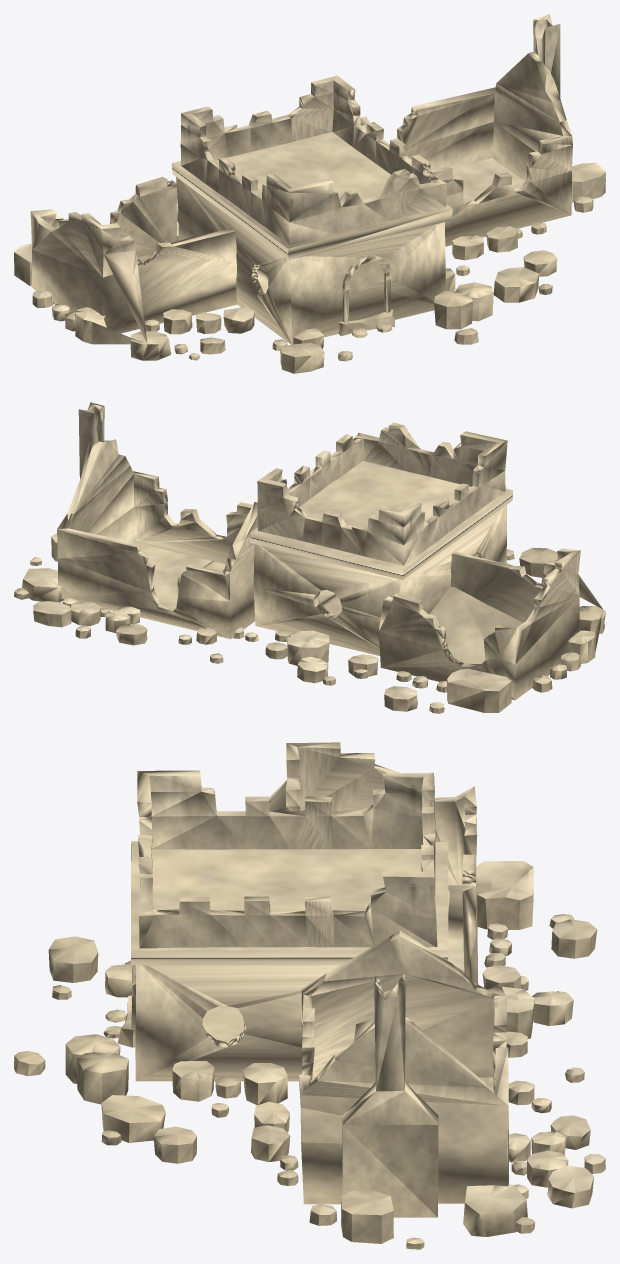
File: castle_d3.8.glb
3 renders of one model, top to bottom at view 1: azimuth 30°, elevation 25°; view 2: azimuth 150°, elevation 25°; view 3: azimuth 270°, elevation 25°, orthographic. The views are drawn at different scales.
Visible parts, largest first — view 1: castle_d3.8; view 2: castle_d3.8; view 3: castle_d3.8.
Part boxes in pixels (left/top/right/bottom): castle_d3.8: left=14, top=14, right=605, bottom=373; castle_d3.8: left=14, top=402, right=605, bottom=713; castle_d3.8: left=14, top=742, right=605, bottom=1249.
Size of the model in its own units: 2.9 by 0.8652 by 1.97.
Materials: 1 (1 with a texture image).
